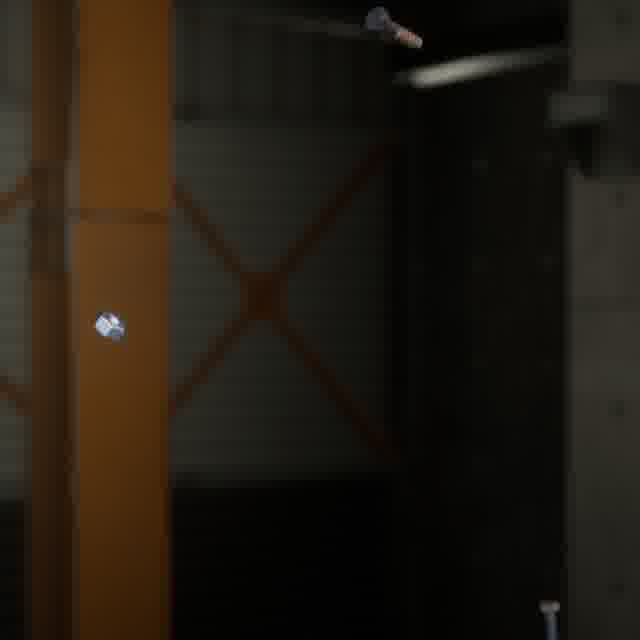bolt: (360, 3, 426, 53), (535, 595, 564, 640)
nut: (89, 305, 130, 344)
